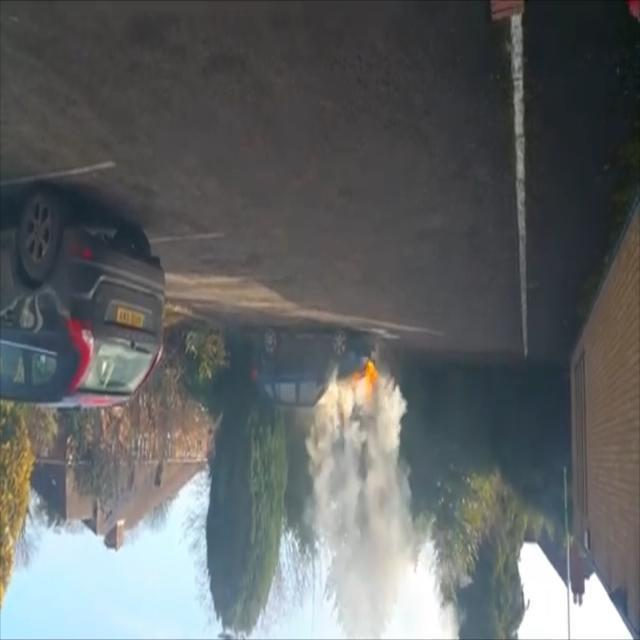fire: (328, 354, 385, 420)
